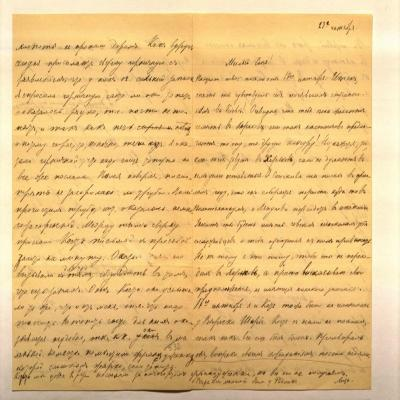document: (12, 12, 372, 389)
